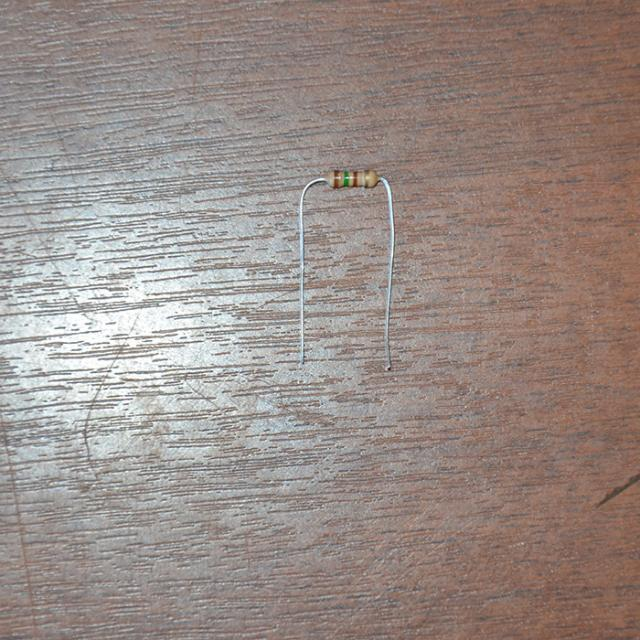brown: (334, 171, 340, 188), (353, 171, 357, 184)
gold: (364, 170, 370, 186)
green: (343, 172, 347, 186)
resistor: (321, 160, 384, 200)
